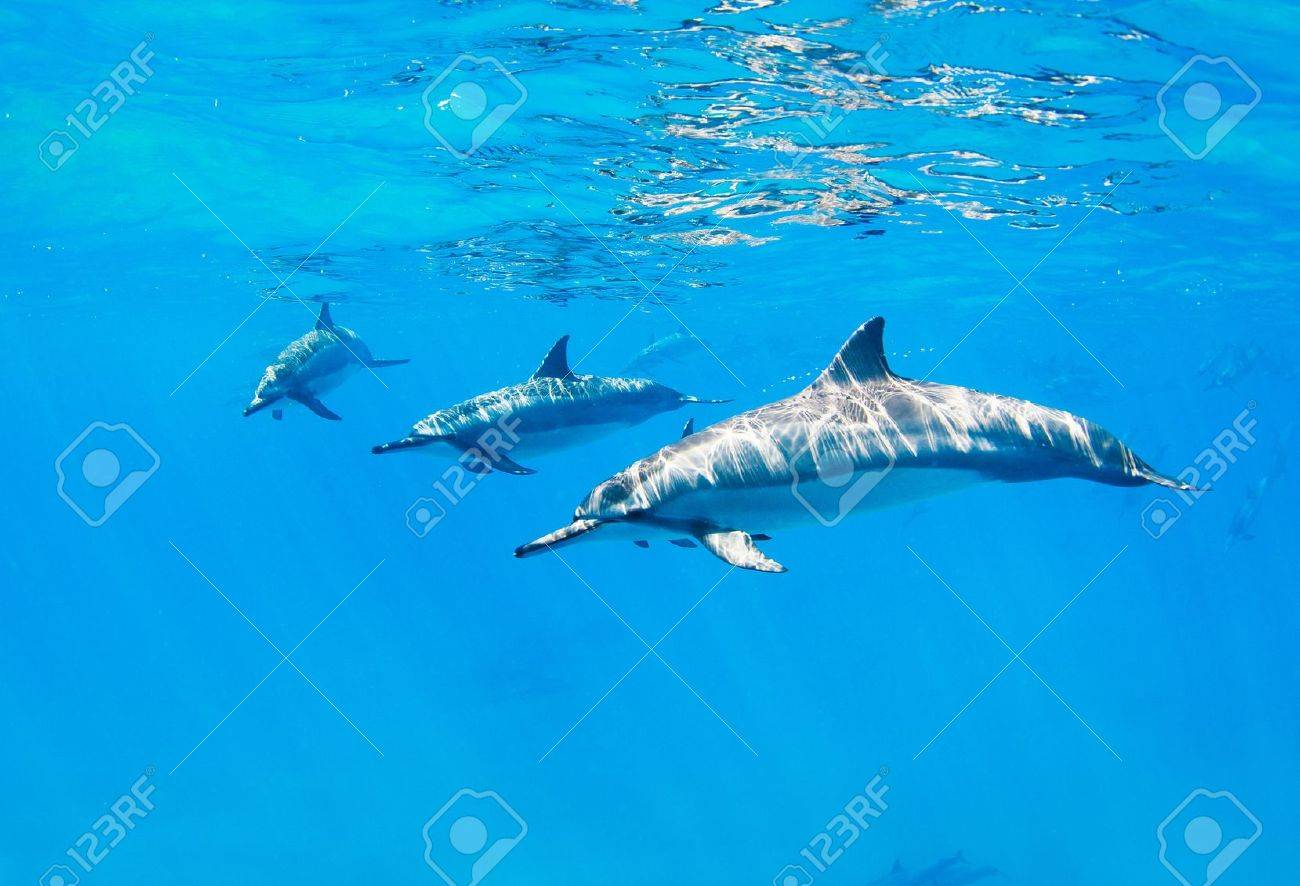dolphin: (497, 297, 1204, 579), (365, 334, 735, 481), (225, 300, 419, 427)
